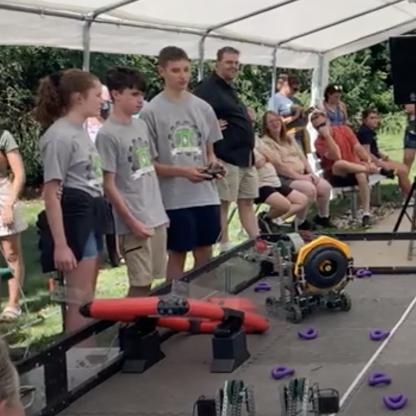ring: (382, 393, 408, 409), (270, 365, 294, 378), (367, 372, 390, 384), (370, 328, 390, 340), (298, 328, 317, 340), (355, 268, 372, 277), (254, 282, 270, 291)
